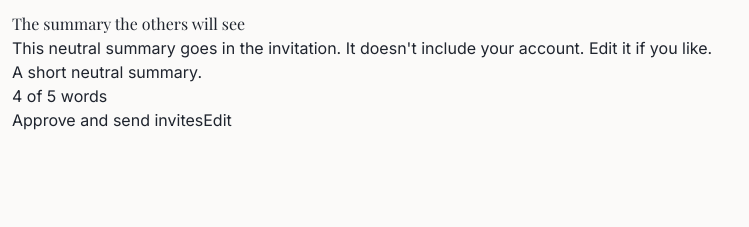
Summary approval card › counts words and blocks approval over the limit
Later steps or results of the test are not shown.
Check: the text "4 of 5 words" is shown, box [12,86,107,106]
Click the button "Edit".
click(218, 120)  # box [203,108,232,132]
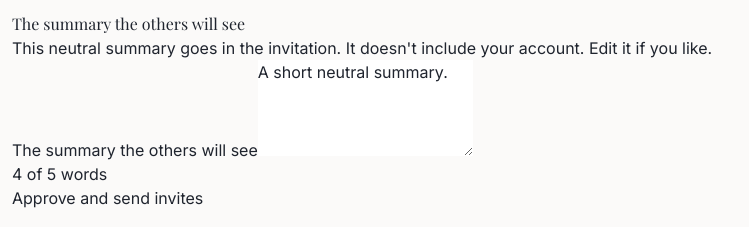
Replace the text in the text box with "one two three four five six" at (365, 108), box [258,60,473,156]
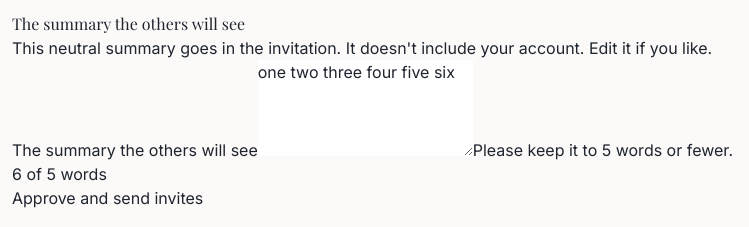
Check: the button "Approve and send invites" is disabled, box [12,186,203,210]
Check: the text "6 of 5 words" is shown, box [12,164,107,184]
